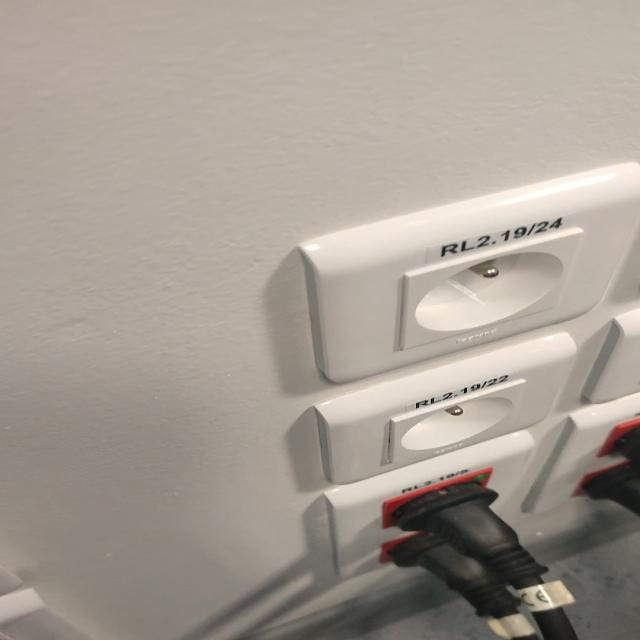house plug: (393, 227, 582, 354), (391, 379, 521, 462)
